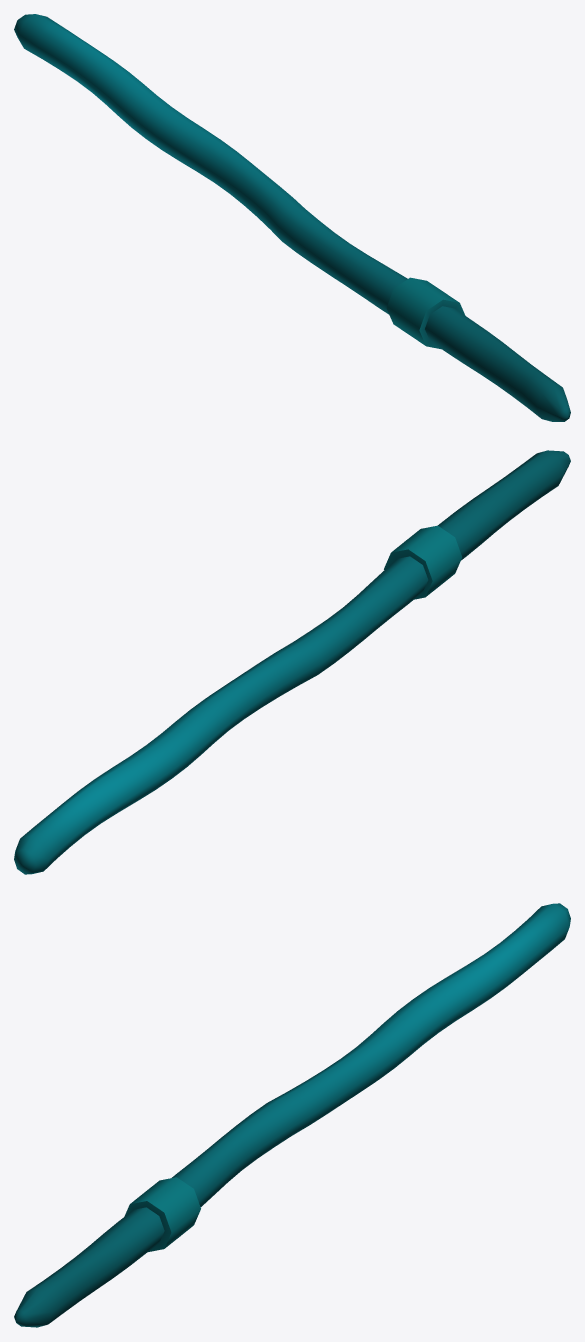
Rendered from Insects_Earthworm.fbx.
3 renders of one model, top to bottom at view 1: azimuth 30°, elevation 25°; view 2: azimuth 150°, elevation 25°; view 3: azimuth 330°, elevation 25°, orthographic. The views are drawn at different scales.
Visible parts, largest first — view 1: base; view 2: base; view 3: base.
Boxes of the visible parts, x1,y1,x2,y2 form: base: (14,14,570,421); base: (14,450,570,874); base: (14,903,570,1327).
Bounding box in the file's own units: 15.29 × 14.29 × 279.
